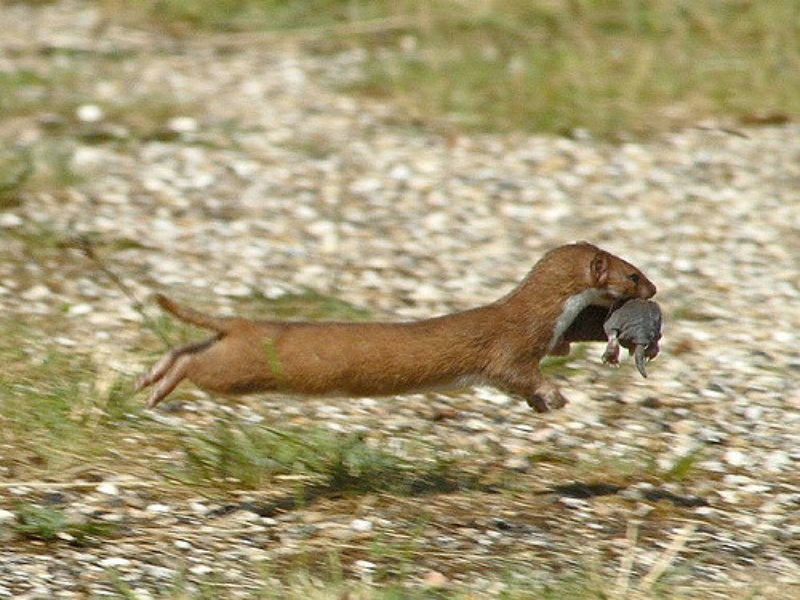minkish: (132, 239, 659, 419)
